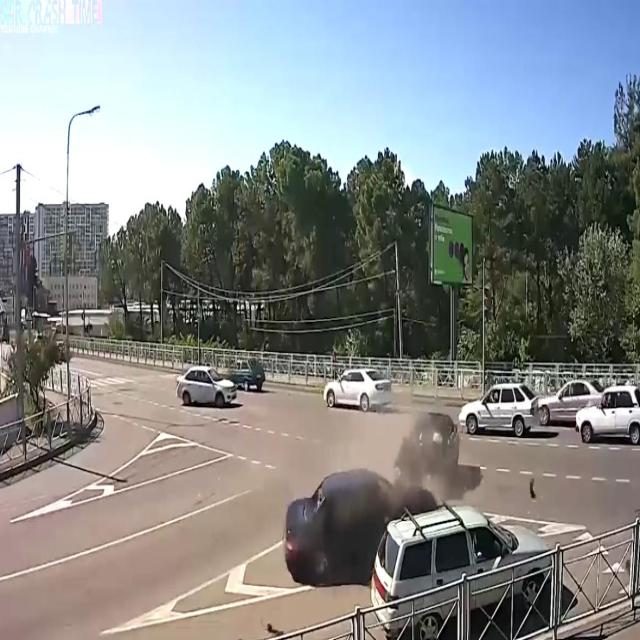accident: (280, 408, 464, 596)
non_accident: (456, 372, 640, 451), (170, 346, 266, 412)
